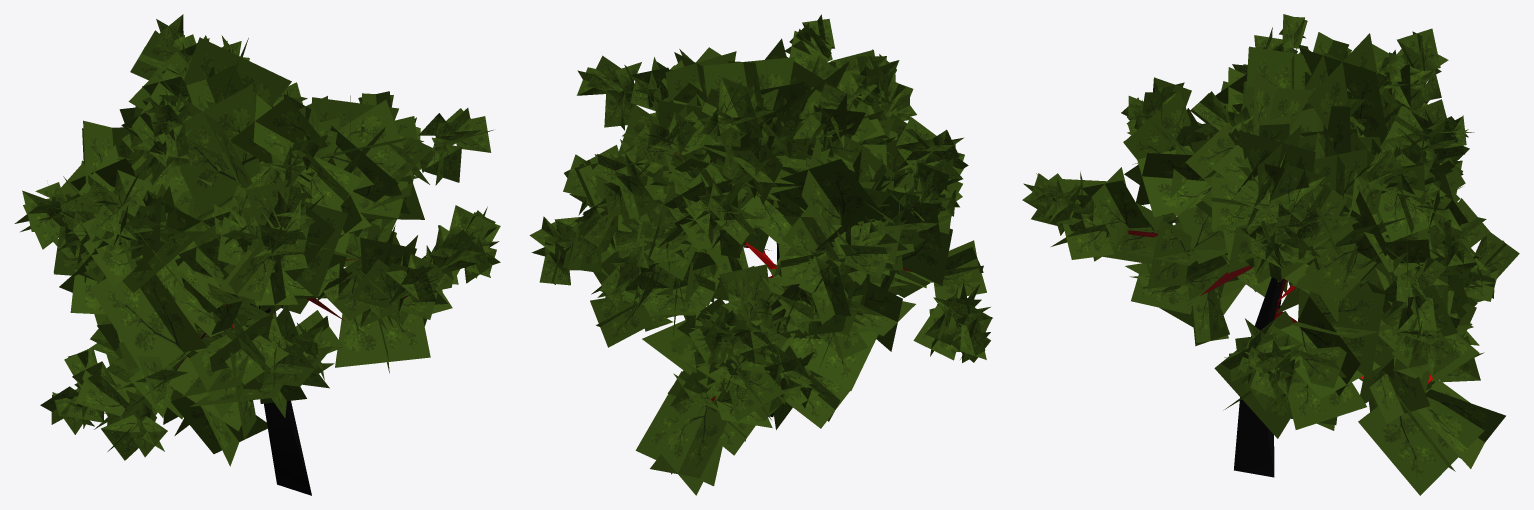
The model's file is oak4 lod1.FBX.
The picture shows the model from 3 angles, left to right: view 1: azimuth 30°, elevation 25°; view 2: azimuth 150°, elevation 25°; view 3: azimuth 270°, elevation 25°; orthographic projection. The views are drawn at different scales.
Parts seen in each view (by area): view 1: oak 4_LOD1; view 2: oak 4_LOD1; view 3: oak 4_LOD1.
Boxes of the visible parts, x1,y1,x2,y2 form: oak 4_LOD1: (14, 14, 500, 495); oak 4_LOD1: (529, 14, 992, 495); oak 4_LOD1: (1022, 14, 1519, 495).
Size of the model in its own units: 92959 by 85289 by 88737.
